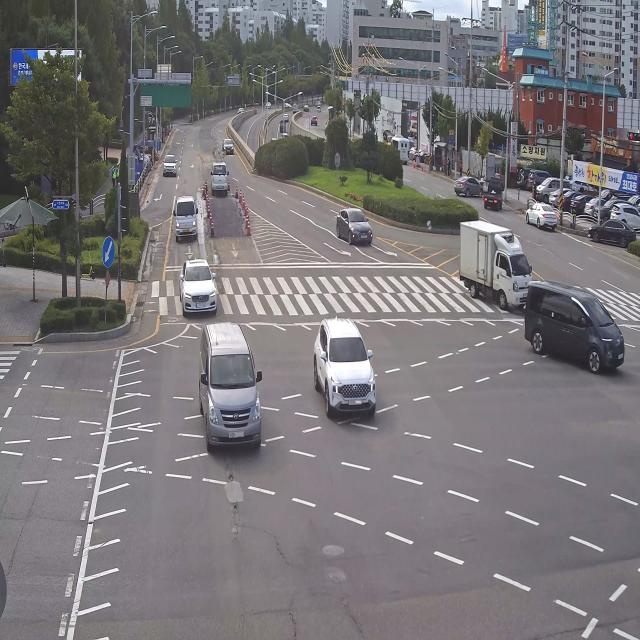Bus: (388, 128, 412, 166)
Car: (521, 270, 632, 384), (307, 306, 385, 450), (193, 316, 264, 469), (158, 254, 231, 318), (321, 194, 377, 254), (578, 218, 638, 251), (523, 197, 559, 237), (453, 168, 484, 208), (534, 173, 570, 200), (610, 201, 640, 230), (594, 200, 630, 222), (162, 150, 180, 186), (513, 161, 533, 191), (559, 188, 582, 212), (526, 165, 549, 188), (570, 193, 591, 215), (218, 132, 238, 155), (548, 184, 571, 204), (587, 195, 604, 219), (308, 110, 319, 134), (236, 106, 244, 115), (266, 101, 272, 112), (282, 112, 289, 121), (315, 105, 322, 113), (303, 103, 309, 112)
Truck: (453, 211, 536, 323), (172, 192, 201, 240), (209, 160, 233, 200), (280, 119, 286, 133), (292, 101, 298, 115)
